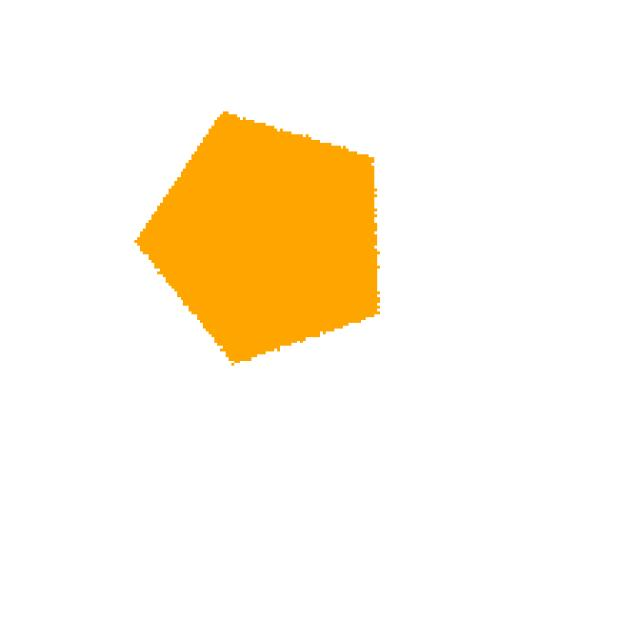Pentagon: (109, 73, 442, 384)
